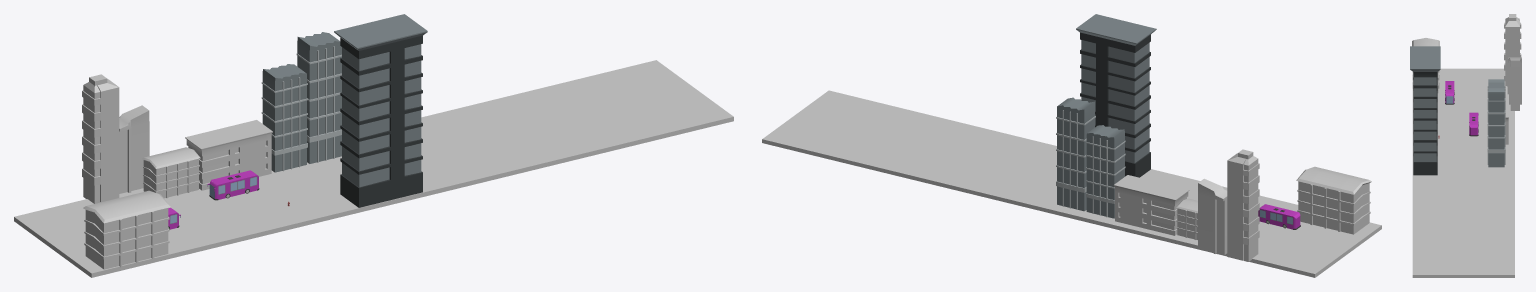
Rendered from StreetView_Textured_v1.fbx.
3 renders of one model, left to right at view 1: azimuth 30°, elevation 25°; view 2: azimuth 150°, elevation 25°; view 3: azimuth 270°, elevation 25°, orthographic. The views are drawn at different scales.
Parts seen in each view (by area): view 1: Road, Building5, Building8, Building7, Building, Building4, Building3, Building1, Building2, MainBody; view 2: Road, Building5, Building8, Building7, Building, Building3, Building4, Building2, Building1, MainBody; view 3: Road, Building5, Building7, Building, Building2, MainBody (×2), Building8, Building3.
Boxes of the visible parts, left/top/right/bottom form: Road: left=14, top=60, right=733, bottom=277; Building5: left=334, top=14, right=427, bottom=207; Building8: left=83, top=190, right=170, bottom=269; Building7: left=296, top=32, right=341, bottom=163; Building: left=82, top=74, right=119, bottom=203; Building4: left=261, top=64, right=307, bottom=172; Building3: left=185, top=120, right=272, bottom=190; Building1: left=142, top=147, right=200, bottom=198; Building2: left=119, top=105, right=149, bottom=193; MainBody: left=209, top=170, right=259, bottom=200; Road: left=762, top=90, right=1381, bottom=277; Building5: left=1076, top=14, right=1156, bottom=177; Building8: left=1296, top=166, right=1371, bottom=234; Building7: left=1056, top=97, right=1095, bottom=211; Building: left=1227, top=149, right=1259, bottom=261; Building3: left=1113, top=175, right=1189, bottom=235; Building4: left=1086, top=125, right=1125, bottom=218; Building2: left=1198, top=178, right=1227, bottom=254; Building1: left=1176, top=198, right=1197, bottom=239; MainBody: left=1258, top=204, right=1300, bottom=229; Road: left=1412, top=68, right=1514, bottom=277; Building5: left=1410, top=46, right=1440, bottom=175; Building7: left=1487, top=79, right=1505, bottom=167; Building: left=1504, top=14, right=1521, bottom=94; Building2: left=1508, top=57, right=1521, bottom=110; MainBody (×2): left=1445, top=81, right=1478, bottom=136; Building8: left=1412, top=38, right=1439, bottom=92; Building3: left=1505, top=94, right=1508, bottom=144.
Size of the model in its own units: 150 by 37.25 by 34.3.
